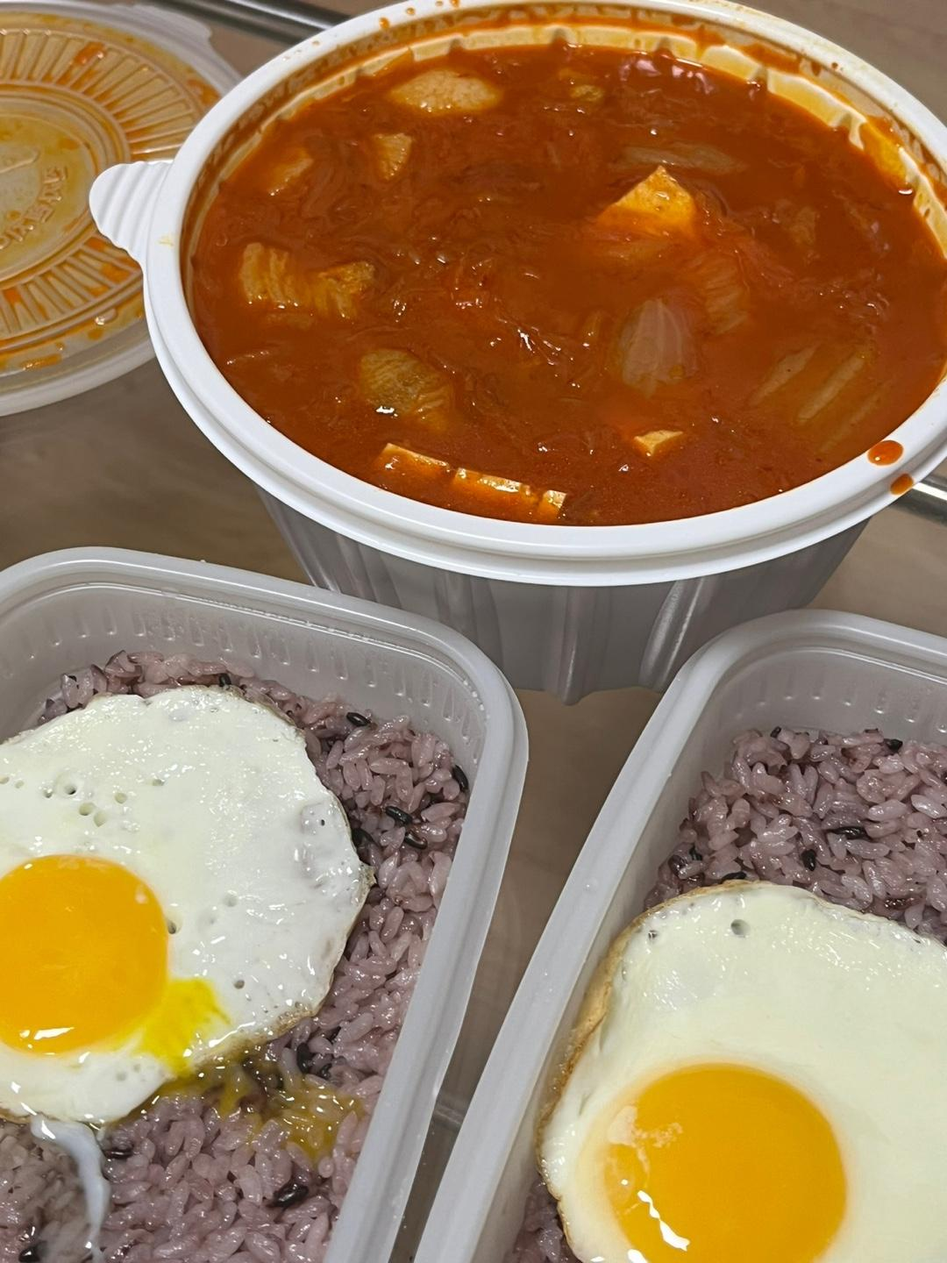Lunch Box: (90, 0, 946, 699), (0, 552, 524, 1262), (418, 612, 946, 1262), (0, 0, 239, 414)
